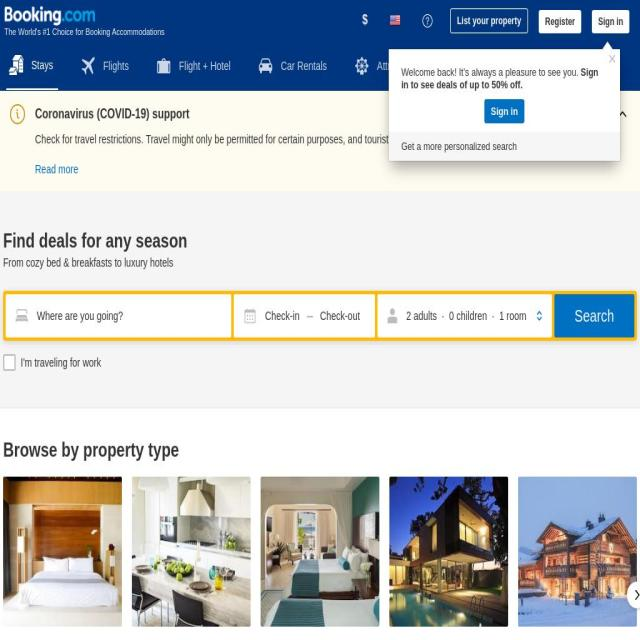button: (377, 294, 552, 338), (154, 42, 236, 90), (443, 42, 521, 90), (255, 42, 332, 90), (554, 294, 634, 338), (352, 42, 424, 90), (450, 0, 528, 41), (78, 42, 134, 90), (581, 0, 640, 41), (528, 0, 582, 41), (379, 0, 412, 41), (351, 0, 379, 41), (484, 99, 525, 123)
field: (6, 294, 231, 338)
heading: (3, 437, 637, 463), (3, 229, 188, 252)
image: (260, 476, 380, 626), (3, 476, 122, 626), (389, 476, 508, 626), (518, 476, 637, 626), (132, 476, 250, 626), (4, 6, 95, 27), (389, 12, 402, 28)
label: (3, 354, 101, 371)
link: (35, 162, 78, 176)
text: (3, 254, 637, 271), (35, 131, 630, 147), (389, 132, 620, 160), (401, 66, 598, 91), (35, 104, 190, 124), (401, 66, 581, 78), (4, 26, 164, 36), (179, 58, 231, 74), (457, 15, 522, 27), (280, 58, 328, 74), (468, 58, 516, 74), (574, 307, 615, 325), (377, 58, 419, 74), (449, 309, 487, 323), (406, 309, 437, 323), (103, 58, 129, 74), (499, 309, 526, 323), (31, 57, 54, 73), (544, 16, 575, 27), (491, 105, 518, 117), (598, 16, 623, 27), (489, 309, 500, 323), (439, 309, 449, 323)
